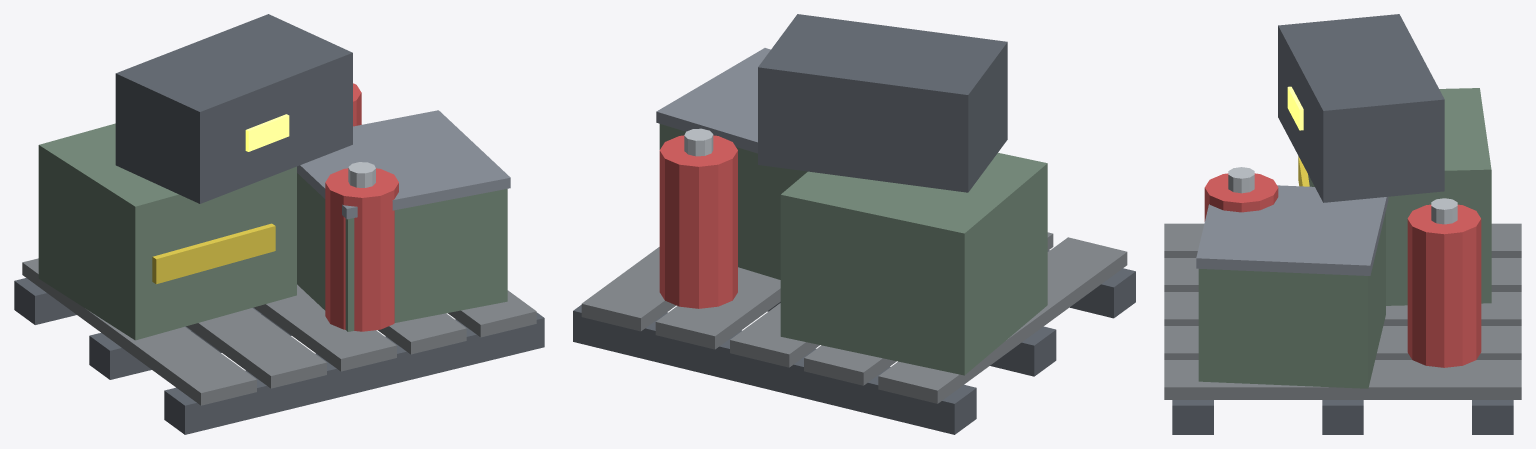
Rendered from prop_ammo_pallet.glb.
3 renders of one model, left to right at view 1: azimuth 30°, elevation 25°; view 2: azimuth 150°, elevation 25°; view 3: azimuth 270°, elevation 25°, orthographic. The views are drawn at different scales.
Parts seen in each view (by area): view 1: PropAmmoPallet; view 2: PropAmmoPallet; view 3: PropAmmoPallet.
Boxes of the visible parts, x1=… form: PropAmmoPallet: x1=14, y1=14, x2=544, y2=434; PropAmmoPallet: x1=573, y1=14, x2=1135, y2=434; PropAmmoPallet: x1=1164, y1=14, x2=1521, y2=434.
Bounding box in the file's own units: 1.8 × 1.28 × 1.55.
